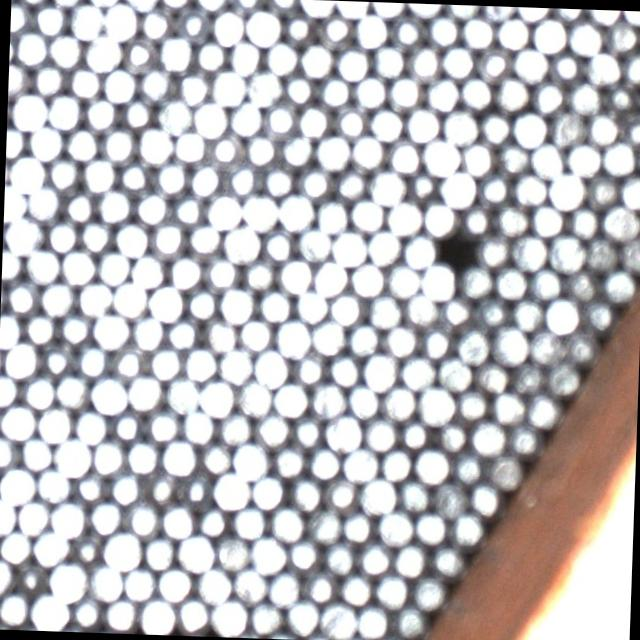tool: (194, 564, 232, 602), (212, 470, 250, 508), (274, 318, 312, 356), (252, 348, 290, 386), (120, 564, 157, 602), (29, 593, 67, 630), (49, 562, 86, 600), (156, 564, 193, 602), (4, 215, 42, 252), (88, 438, 125, 476), (178, 532, 215, 570), (417, 386, 454, 424), (528, 200, 565, 238), (210, 597, 247, 635), (160, 437, 197, 474), (439, 170, 476, 207), (129, 313, 166, 350), (324, 413, 361, 450), (83, 33, 120, 70), (2, 340, 39, 377), (222, 223, 259, 260), (441, 108, 478, 145), (143, 406, 180, 443), (380, 384, 417, 421), (382, 320, 418, 358), (104, 530, 140, 568), (232, 564, 268, 602), (242, 192, 278, 230), (310, 318, 346, 356), (54, 436, 90, 474), (602, 202, 638, 240), (284, 596, 320, 634), (175, 596, 211, 634), (166, 252, 202, 290), (92, 310, 128, 348), (45, 154, 81, 192), (36, 404, 72, 442), (110, 280, 148, 316), (314, 132, 350, 170), (511, 232, 547, 270), (342, 445, 378, 483), (74, 340, 110, 378), (198, 378, 234, 416), (138, 596, 174, 634), (141, 532, 177, 570), (22, 246, 58, 284), (26, 124, 64, 160), (362, 352, 398, 389), (13, 30, 50, 66), (512, 170, 548, 207), (218, 345, 254, 382), (124, 438, 161, 474), (34, 465, 70, 502), (530, 15, 566, 52), (232, 441, 268, 478), (238, 316, 274, 353), (385, 198, 421, 235), (362, 414, 398, 451), (360, 476, 396, 513), (296, 224, 332, 261), (548, 233, 584, 270), (494, 74, 530, 111), (133, 188, 170, 224), (349, 195, 385, 232), (566, 140, 602, 177), (249, 535, 285, 572), (249, 472, 286, 508), (102, 2, 138, 39), (96, 186, 132, 223), (187, 160, 223, 197), (68, 1, 104, 38), (276, 193, 312, 230), (366, 227, 402, 264), (386, 137, 422, 174), (138, 3, 174, 40), (137, 64, 174, 100), (345, 319, 381, 356), (565, 203, 601, 240), (297, 163, 333, 200), (10, 93, 46, 130), (148, 284, 185, 320), (530, 78, 566, 115), (406, 45, 442, 82), (422, 138, 459, 174), (186, 220, 223, 256), (24, 182, 60, 219), (584, 234, 620, 271), (17, 434, 53, 471), (236, 378, 272, 415), (404, 105, 440, 142), (398, 354, 434, 391), (512, 109, 548, 146), (126, 373, 162, 410), (527, 328, 564, 364), (213, 533, 250, 569), (59, 248, 95, 285), (50, 500, 86, 537), (312, 258, 348, 295), (460, 13, 496, 50), (87, 563, 123, 600), (272, 380, 308, 417), (68, 592, 104, 629), (12, 557, 48, 594), (320, 602, 356, 638), (567, 18, 603, 54), (354, 603, 390, 639), (298, 40, 334, 76), (440, 42, 476, 78), (424, 74, 460, 110), (418, 263, 454, 299), (370, 42, 406, 78), (322, 539, 358, 575), (8, 154, 44, 190), (262, 40, 298, 76), (218, 286, 254, 322), (246, 70, 282, 106), (547, 172, 583, 208), (136, 126, 172, 162), (604, 18, 640, 54), (4, 277, 40, 313), (182, 346, 218, 382), (492, 326, 528, 362), (528, 142, 564, 178), (100, 66, 136, 102), (432, 481, 468, 517), (40, 280, 76, 316), (368, 168, 404, 204), (206, 192, 242, 228), (293, 286, 329, 322), (110, 343, 146, 379), (223, 160, 259, 196), (72, 407, 108, 443), (302, 568, 338, 604), (98, 126, 134, 162), (257, 286, 293, 322), (80, 156, 116, 192), (285, 536, 321, 572), (114, 220, 150, 256), (46, 93, 82, 129), (512, 46, 548, 82), (76, 279, 112, 315), (567, 79, 603, 115), (292, 349, 328, 385), (548, 49, 584, 85), (0, 402, 36, 438), (476, 45, 512, 81), (120, 36, 156, 72), (550, 109, 586, 145), (40, 339, 76, 375), (130, 252, 166, 288), (216, 410, 252, 446), (352, 11, 388, 47), (175, 68, 211, 104), (248, 598, 284, 634), (175, 4, 211, 40), (202, 316, 238, 352), (289, 412, 325, 448), (412, 509, 448, 545), (326, 351, 362, 387), (316, 72, 352, 108), (472, 294, 508, 330), (32, 528, 68, 564), (164, 376, 200, 412), (349, 133, 385, 169), (90, 376, 126, 412), (492, 201, 528, 237), (472, 358, 508, 394), (230, 502, 266, 538), (280, 70, 316, 106), (209, 68, 245, 104), (322, 474, 358, 510), (203, 254, 239, 290), (348, 260, 384, 296), (288, 474, 324, 510), (146, 344, 182, 380), (178, 468, 214, 504), (458, 140, 494, 176), (71, 467, 107, 503), (240, 256, 276, 292), (402, 290, 438, 326), (148, 220, 184, 256), (152, 159, 188, 195), (266, 570, 302, 606), (328, 290, 364, 326), (30, 61, 66, 97), (160, 502, 196, 538), (508, 358, 544, 394), (260, 226, 296, 262), (198, 439, 234, 475), (344, 382, 380, 418), (20, 373, 56, 409), (376, 508, 412, 544), (192, 99, 228, 135), (450, 448, 486, 484), (268, 504, 304, 540), (156, 35, 192, 71), (401, 232, 437, 268), (584, 48, 620, 84), (82, 94, 118, 130), (583, 171, 619, 207), (276, 256, 312, 292), (124, 500, 160, 536), (270, 442, 306, 478), (544, 360, 580, 396), (156, 97, 192, 133), (396, 477, 432, 513), (564, 266, 600, 302), (308, 382, 344, 418), (54, 372, 90, 408), (68, 529, 104, 565), (142, 467, 178, 503), (410, 574, 446, 610), (414, 446, 449, 483), (454, 327, 491, 362), (253, 411, 290, 446), (171, 190, 206, 227), (180, 408, 217, 443), (64, 125, 99, 162), (210, 7, 245, 44), (331, 228, 366, 265), (421, 200, 456, 236), (374, 572, 409, 608), (103, 595, 138, 631), (437, 355, 472, 391), (306, 444, 342, 479), (314, 197, 349, 233), (378, 446, 413, 482), (108, 468, 143, 504), (48, 32, 83, 68), (385, 262, 420, 298), (192, 38, 228, 73), (509, 296, 545, 331), (165, 314, 200, 350), (245, 8, 280, 44), (57, 310, 92, 346), (260, 162, 296, 197), (357, 540, 392, 576), (338, 570, 373, 606), (496, 14, 532, 49), (208, 131, 244, 166), (66, 64, 102, 99), (418, 324, 454, 359), (487, 452, 522, 488), (60, 188, 96, 223), (367, 292, 402, 328), (387, 74, 422, 110), (108, 407, 144, 442), (44, 217, 80, 252), (493, 263, 528, 299), (435, 417, 470, 453), (280, 10, 316, 45), (438, 293, 474, 328), (119, 94, 154, 130), (262, 101, 297, 137), (332, 102, 368, 137), (368, 105, 404, 140), (495, 140, 530, 176), (471, 420, 506, 456), (195, 502, 230, 538), (332, 166, 368, 201), (392, 542, 427, 578), (15, 497, 50, 533), (604, 79, 640, 114), (388, 12, 423, 48), (448, 509, 484, 544), (392, 602, 427, 638), (600, 267, 636, 302), (0, 465, 34, 502), (227, 39, 262, 74), (184, 285, 219, 320), (457, 264, 492, 299), (296, 103, 331, 138), (475, 232, 510, 267), (32, 1, 67, 36), (490, 388, 525, 423), (527, 266, 562, 301), (430, 542, 465, 577), (544, 296, 578, 332), (458, 75, 492, 111), (172, 128, 206, 164), (118, 158, 152, 194), (316, 12, 352, 46), (426, 11, 460, 47), (476, 172, 510, 208), (602, 140, 636, 176), (306, 506, 340, 542), (454, 386, 490, 420), (228, 100, 262, 136), (586, 110, 620, 146), (88, 498, 122, 534), (78, 217, 112, 253), (334, 44, 368, 80), (340, 508, 374, 544), (478, 110, 512, 146), (404, 168, 440, 202), (352, 73, 386, 108), (244, 131, 278, 166), (278, 131, 312, 166), (564, 327, 598, 362), (96, 248, 130, 283), (22, 310, 57, 344), (457, 202, 492, 236), (398, 416, 433, 450), (506, 420, 540, 454), (468, 482, 502, 516), (580, 296, 614, 330), (0, 527, 32, 563), (526, 393, 558, 428), (0, 589, 30, 625), (3, 183, 24, 220), (0, 311, 21, 347), (619, 173, 640, 209), (6, 123, 27, 159), (10, 0, 32, 34), (1, 244, 22, 279), (8, 60, 28, 96), (620, 235, 640, 271), (620, 50, 640, 85), (620, 112, 640, 147), (0, 371, 19, 407), (0, 432, 17, 468), (334, 1, 369, 18), (0, 496, 15, 532), (299, 0, 334, 15), (264, 0, 299, 14), (444, 4, 478, 18), (370, 2, 404, 16), (0, 558, 12, 595), (228, 0, 263, 12), (194, 0, 229, 11), (122, 0, 158, 9), (157, 0, 191, 9), (86, 0, 120, 5), (50, 0, 83, 5), (15, 0, 49, 4)
